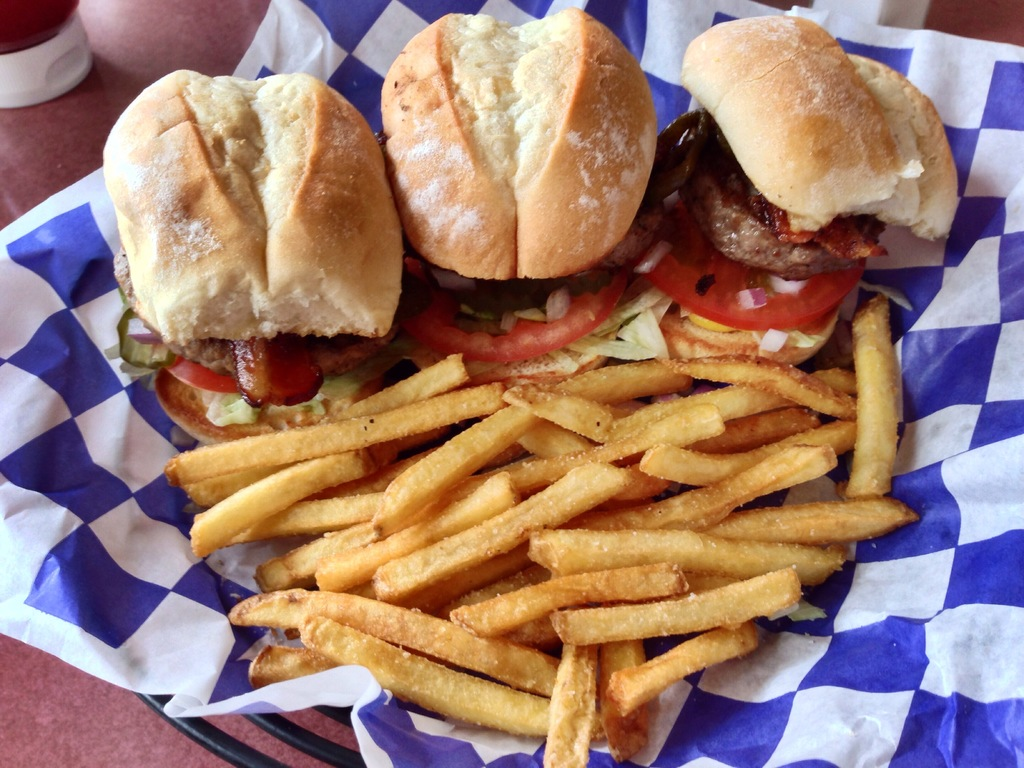French fries: (161, 266, 905, 759)
